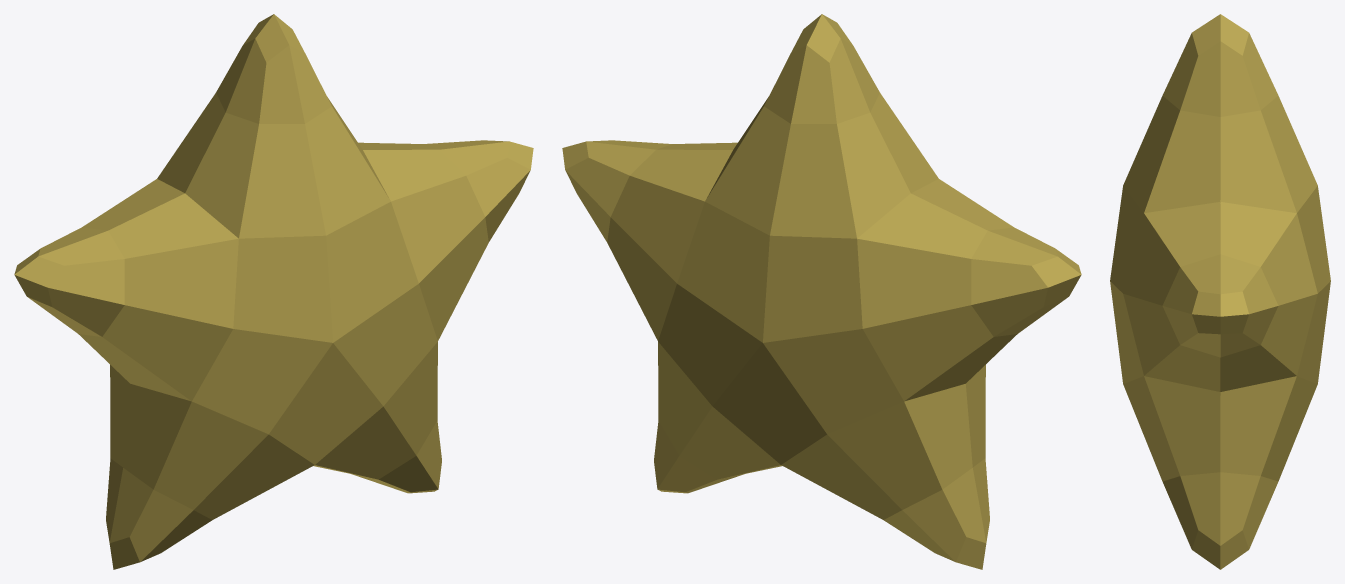
The model's file is star.glb.
3 views of the same model, side by side, from view 1: azimuth 30°, elevation 25°; view 2: azimuth 150°, elevation 25°; view 3: azimuth 270°, elevation 25° (orthographic). The views are drawn at different scales.
Visible parts, largest first — view 1: Star; view 2: Star; view 3: Star.
Boxes of the visible parts, x1,y1,x2,y2 form: Star: (14,14,533,569); Star: (562,14,1081,569); Star: (1110,14,1330,569).
Bounding box in the file's own units: 0.9319 × 0.8863 × 0.3675.
